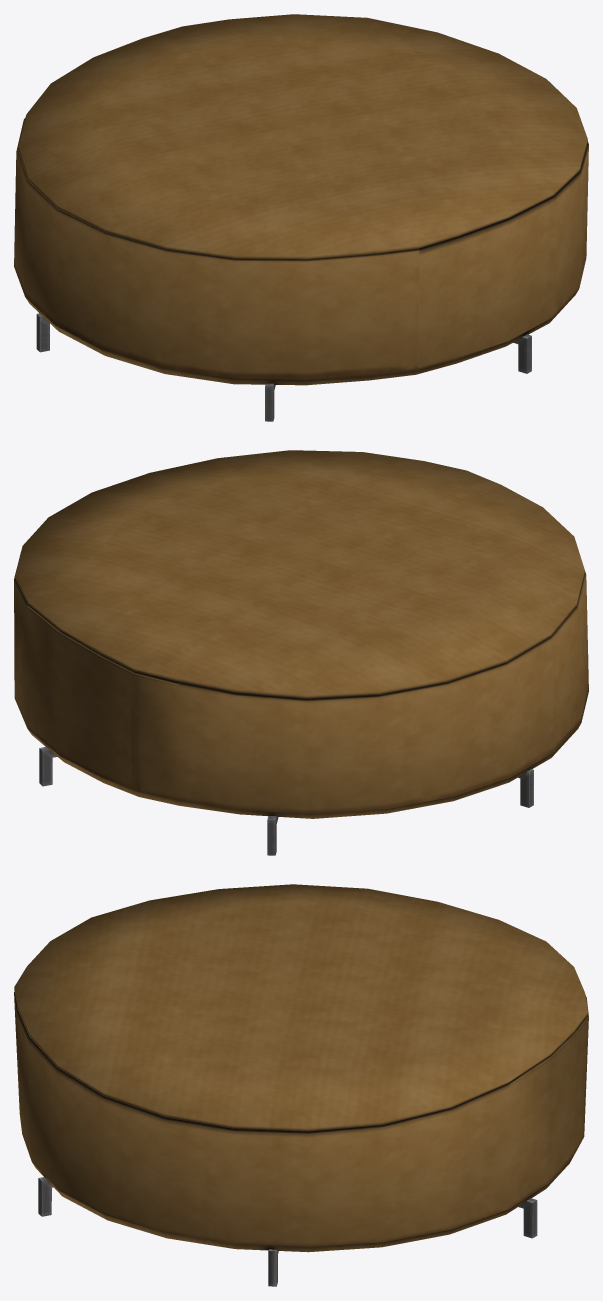
File: buttchair-4.FBX
The picture shows the model from 3 angles, top to bottom: view 1: azimuth 30°, elevation 25°; view 2: azimuth 150°, elevation 25°; view 3: azimuth 270°, elevation 25°; orthographic projection.
Parts seen in each view (by area): view 1: buttchair-4_LOD0; view 2: buttchair-4_LOD0; view 3: buttchair-4_LOD0.
Part boxes in pixels (x1,y1,x2,y2): buttchair-4_LOD0: (14,14,588,421); buttchair-4_LOD0: (14,450,588,855); buttchair-4_LOD0: (14,884,588,1286).
Size of what is drawn, in the model's own units: 45.23 by 15.44 by 44.7.
